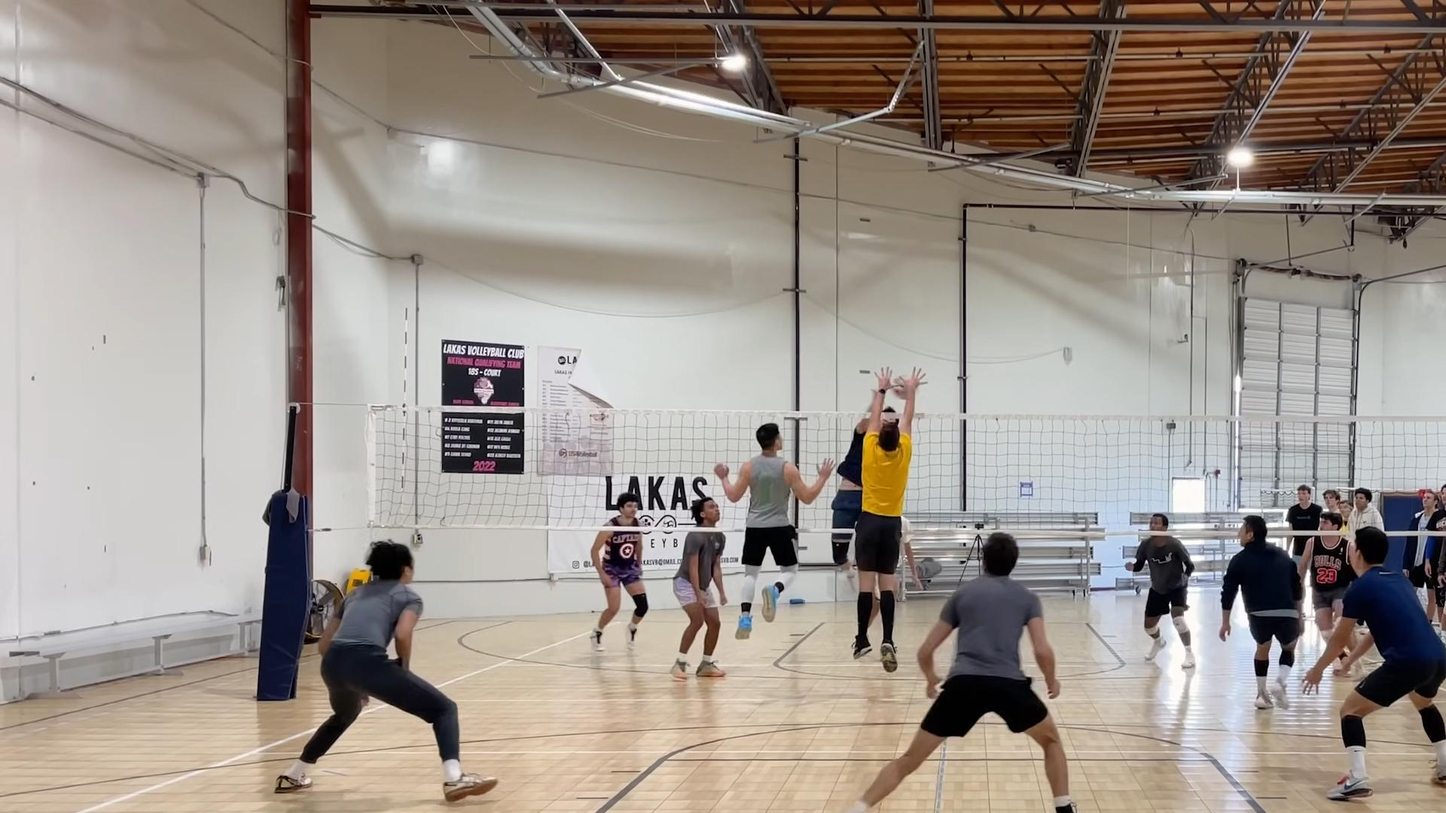attacco: (831, 365, 901, 589)
muro: (713, 413, 831, 645), (851, 364, 922, 676)
